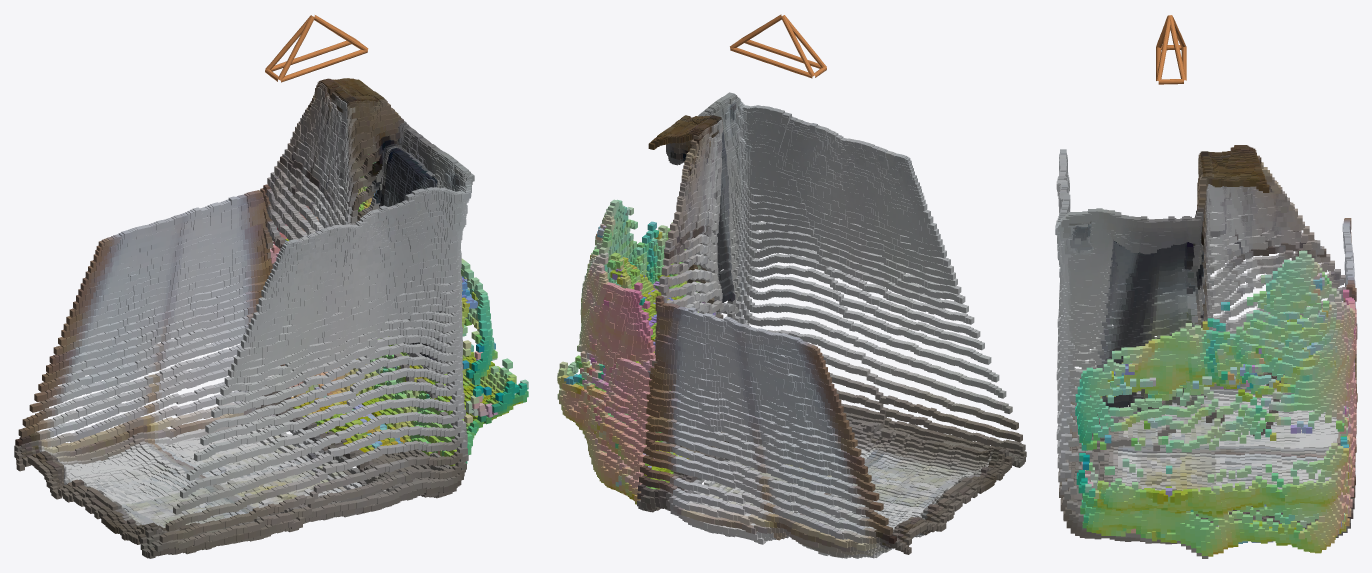
File: pred_1-compressed.glb
3 views of the same model, side by side, from view 1: azimuth 30°, elevation 25°; view 2: azimuth 150°, elevation 25°; view 3: azimuth 270°, elevation 25° (orthographic). The views are drawn at different scales.
Size of the model in its own units: 3.58 by 4.25 by 2.36.
